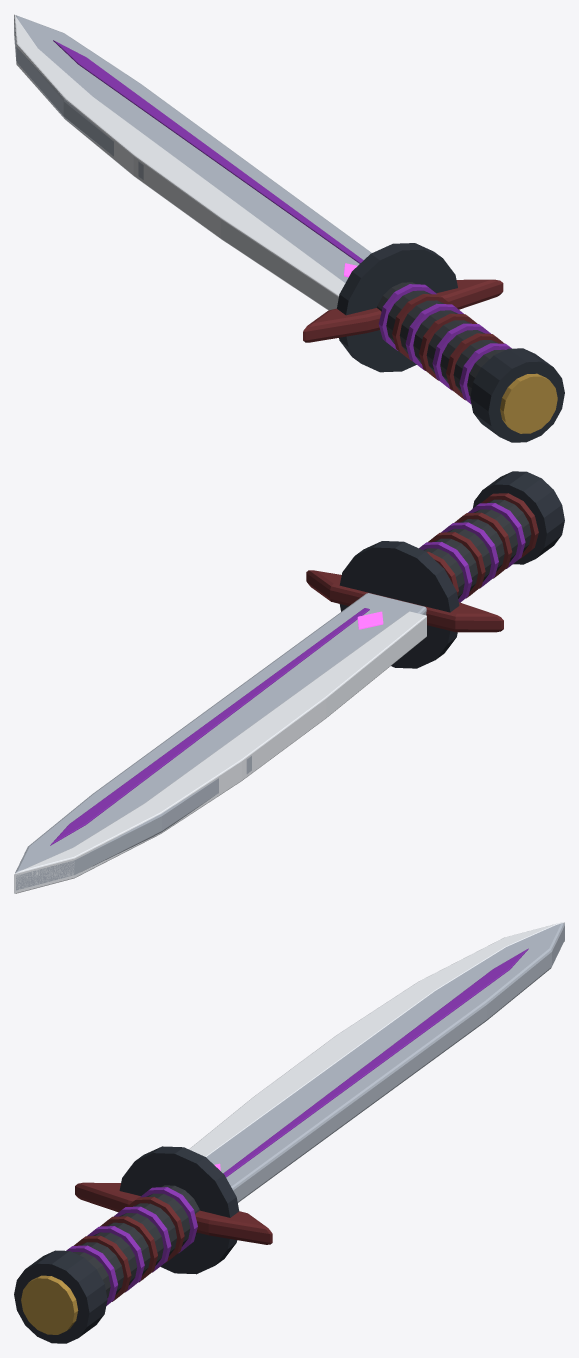
The model's file is TrainingKatana_MK2.glb.
The picture shows the model from 3 angles, top to bottom: view 1: azimuth 30°, elevation 25°; view 2: azimuth 150°, elevation 25°; view 3: azimuth 330°, elevation 25°; orthographic projection.
Visible parts, largest first — view 1: Blade, BladeEdge, GuardHub, Pommel, HandleCore, BladeFuller, GuardWing, PommelCap, GripCollar_02, GripCollar_03, GripCollar_06, GripCollar_05 (+3 smaller); view 2: Blade, BladeEdge, GuardHub, BladeFuller, Pommel, HandleCore, GuardWing, GripCollar_00, GripCollar_01, GripCollar_04, GripCollar_03, GripCollar_02 (+1 smaller); view 3: Blade, BladeEdge, GuardHub, Pommel, HandleCore, BladeFuller, GuardWing, PommelCap, GripCollar_04, GripCollar_07, GripCollar_02, GripCollar_03 (+3 smaller).
Part boxes in pixels (box(x1,y1,x2,y2)): Blade: box(14, 15, 371, 282); BladeEdge: box(14, 14, 345, 310); GuardHub: box(337, 243, 457, 372); Pommel: box(470, 348, 564, 442); HandleCore: box(377, 282, 504, 396); BladeFuller: box(53, 40, 363, 263); GuardWing: box(303, 279, 503, 342); PommelCap: box(500, 373, 557, 433); GripCollar_02: box(446, 333, 504, 400); GripCollar_03: box(432, 323, 490, 390); GripCollar_06: box(392, 294, 450, 360); GripCollar_05: box(405, 303, 464, 370); Blade: box(15, 593, 426, 890); BladeEdge: box(14, 611, 426, 893); GuardHub: box(339, 541, 459, 668); BladeFuller: box(50, 608, 369, 845); Pommel: box(472, 471, 564, 564); HandleCore: box(423, 499, 531, 598); GuardWing: box(306, 570, 503, 632); GripCollar_00: box(481, 493, 538, 559); GripCollar_01: box(468, 503, 525, 568); GripCollar_04: box(428, 532, 485, 598); GripCollar_03: box(441, 522, 498, 588); GripCollar_02: box(454, 512, 512, 578); Blade: box(206, 923, 564, 1202); BladeEdge: box(189, 922, 564, 1156); GuardHub: box(119, 1146, 239, 1274); Pommel: box(14, 1250, 107, 1343); HandleCore: box(73, 1185, 199, 1297); BladeFuller: box(223, 948, 528, 1177); GuardWing: box(75, 1182, 272, 1244); PommelCap: box(21, 1275, 78, 1334); GripCollar_04: box(100, 1216, 157, 1282); GripCollar_07: box(140, 1187, 197, 1253); GripCollar_02: box(73, 1235, 131, 1301); GripCollar_03: box(87, 1226, 144, 1292).
Bounding box in the file's own units: 1.07 × 0.62 × 4.83.
